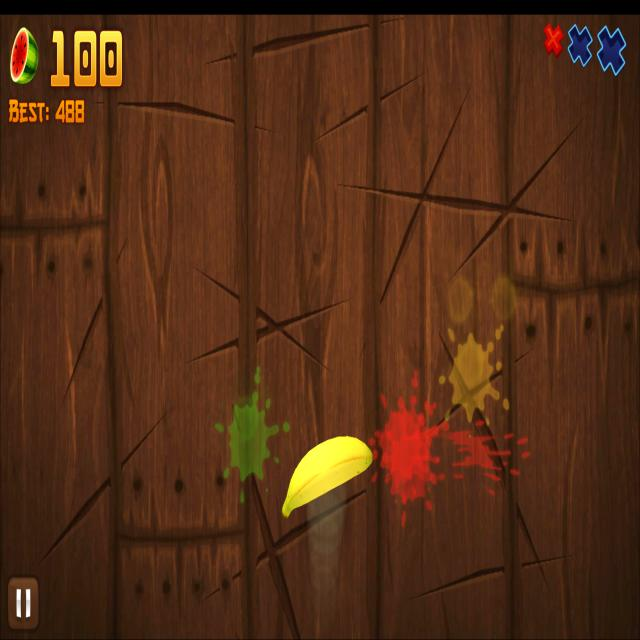fruit: (283, 432, 373, 524)
